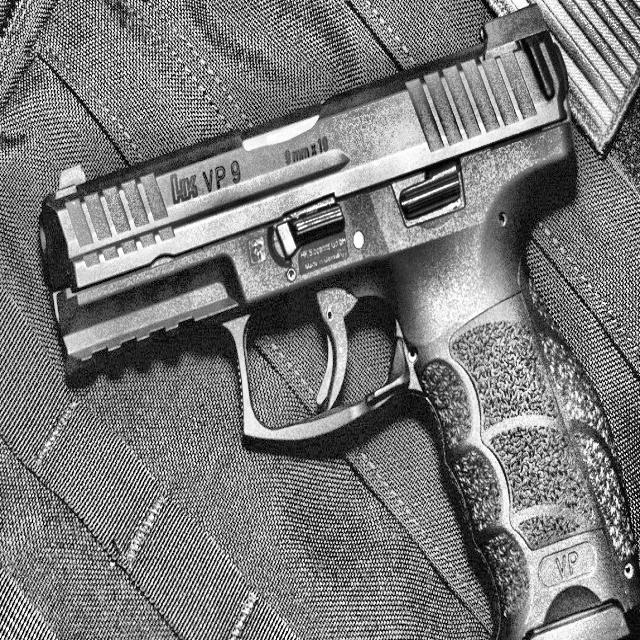Heckler - Koch -H-K-: (37, 0, 640, 640)
